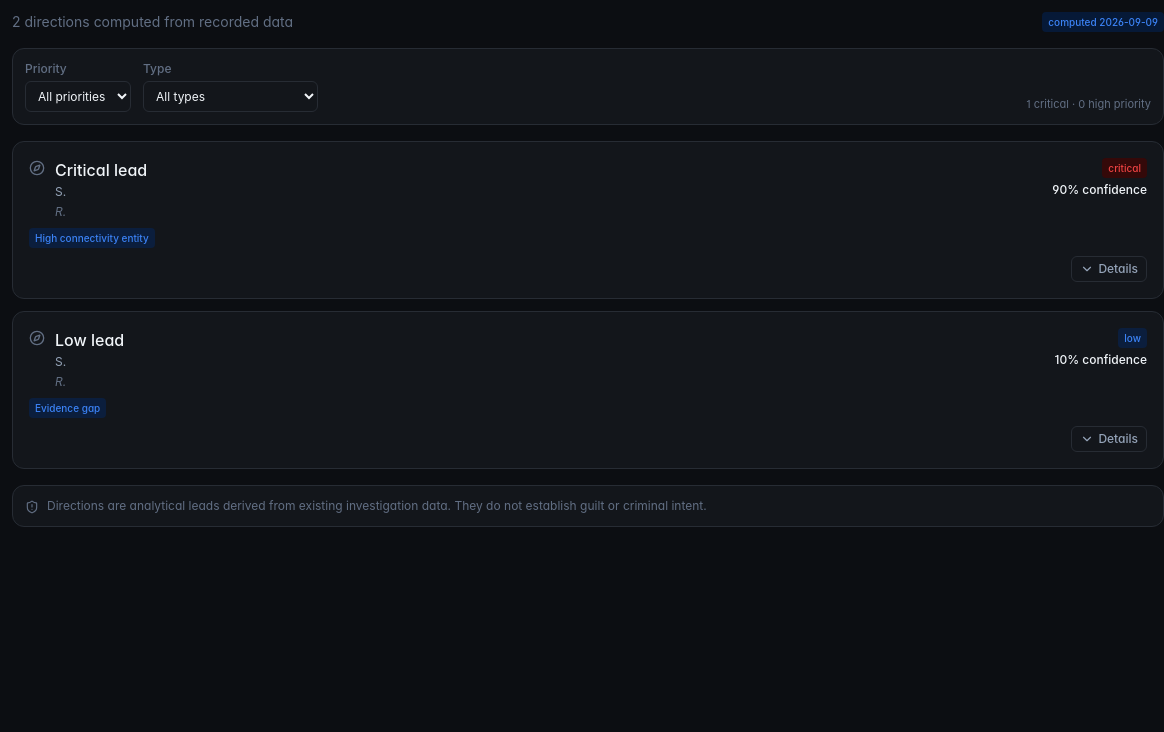
Test: InvestigationDirectionsTab — detail panel & filters (Phase 27) › filters directions by priority client-side without refetching
The image size is (1164, 732).
Expected: the text "Critical lead" is shown, [55,158,147,182]
Expected: the text "Low lead" is shown, [55,328,124,352]
Select "Critical" in the dropdown with test id "direction-filter-priority": [78, 96] box [25,81,131,112]
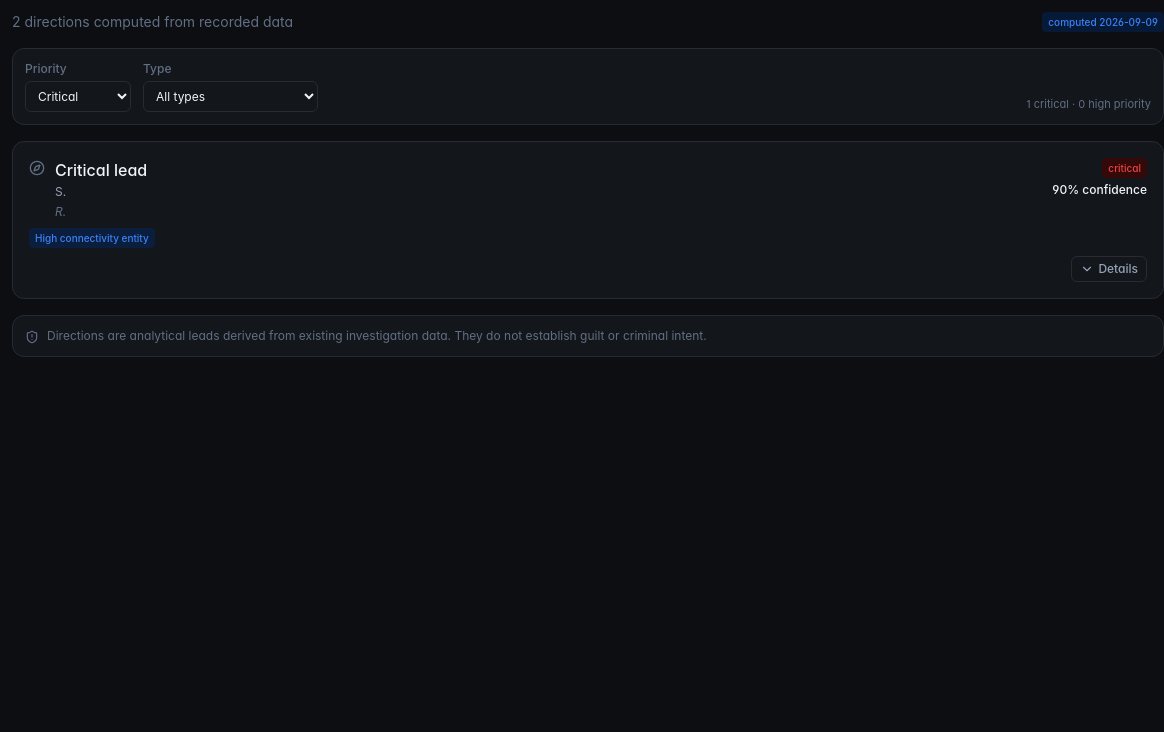
Expected: the text "Critical lead" is shown, [55,158,147,182]
Now the button "Low lead" is gone
